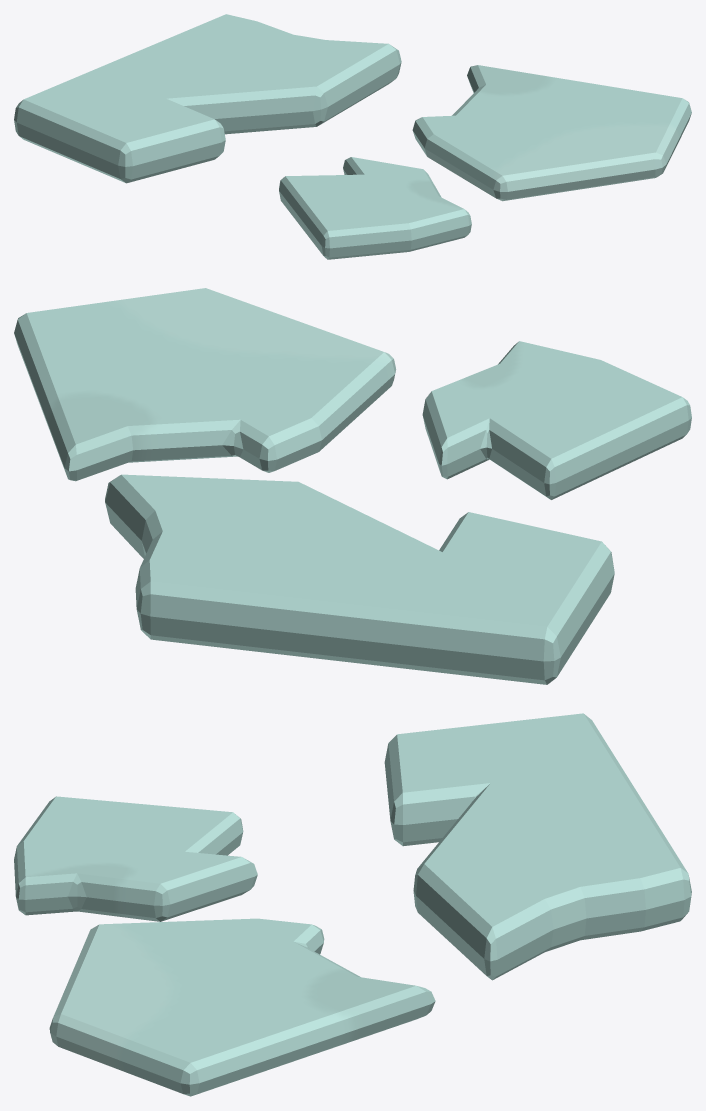
File: Mod_Glassbreak_01.fbx
3 views of the same model, one above another, from view 1: azimuth 30°, elevation 25°; view 2: azimuth 150°, elevation 25°; view 3: azimuth 270°, elevation 25° (orthographic). The views are drawn at different scales.
Visible parts, largest first — view 1: Mod_Glassbreak_01; view 2: Mod_Glassbreak_01; view 3: Mod_Glassbreak_01.
Part boxes in pixels (box(x1,y1,x2,y2)): Mod_Glassbreak_01: box(14, 14, 691, 259); Mod_Glassbreak_01: box(14, 288, 691, 684); Mod_Glassbreak_01: box(14, 713, 691, 1096).
Bounding box in the file's own units: 93.87 × 6.9 × 79.07.
